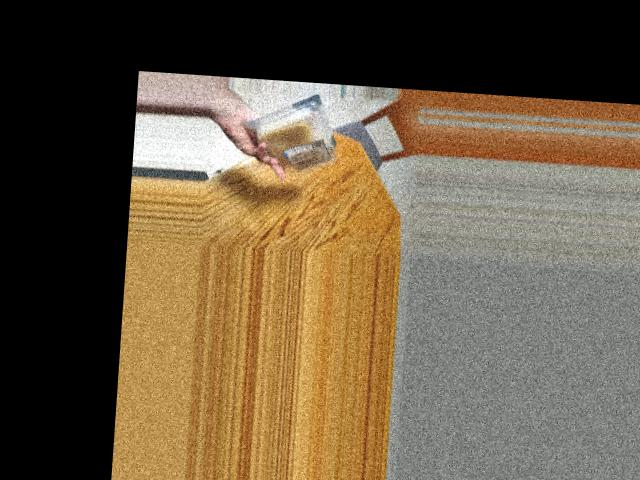cheese: (252, 103, 339, 167)
